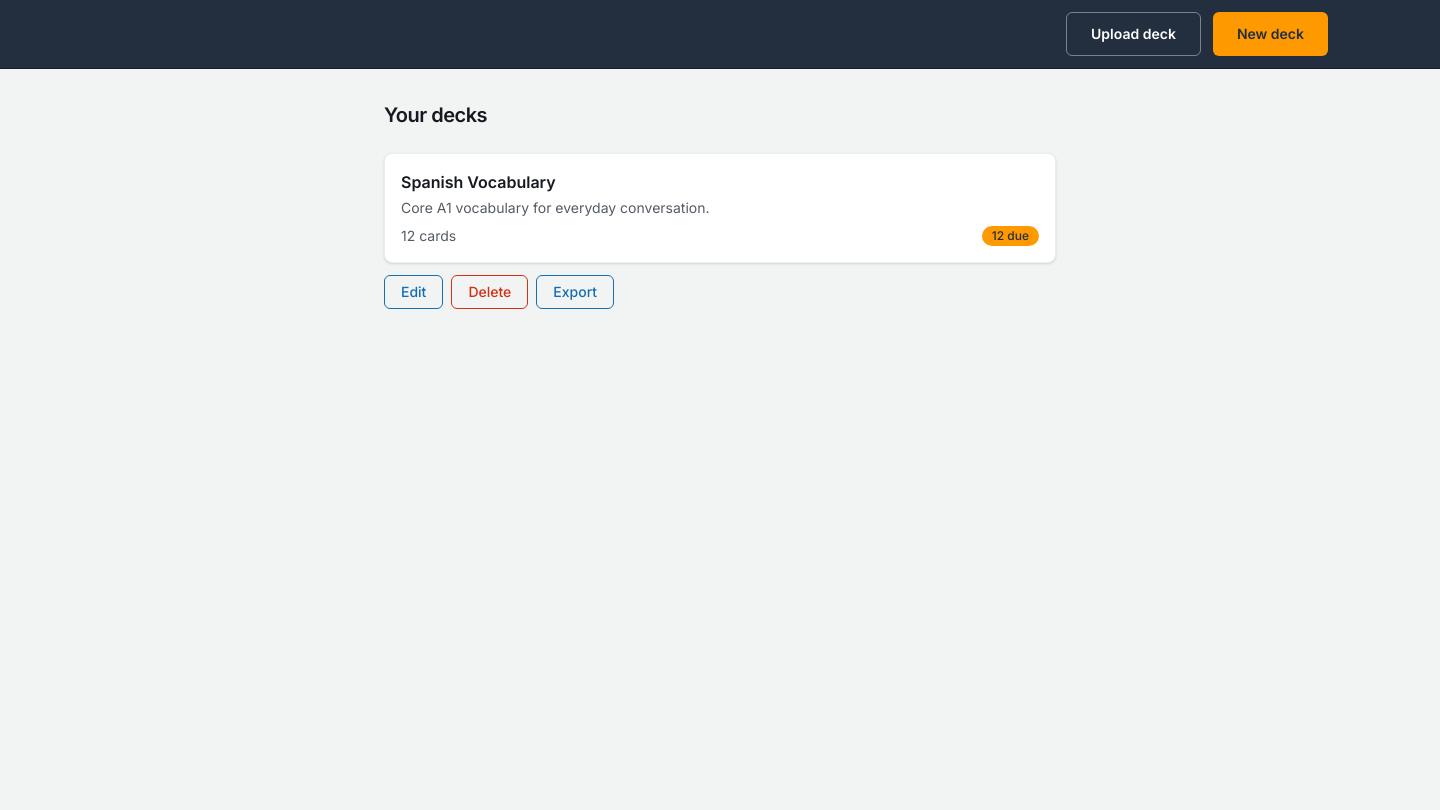
it: Dashboard wiring — create entry points open the form (1.1) › opens the DeckForm in create mode when the header 'New deck' button is clicked
Click the button "New deck" at coordinates (1270, 34), box [1213,12,1328,56]
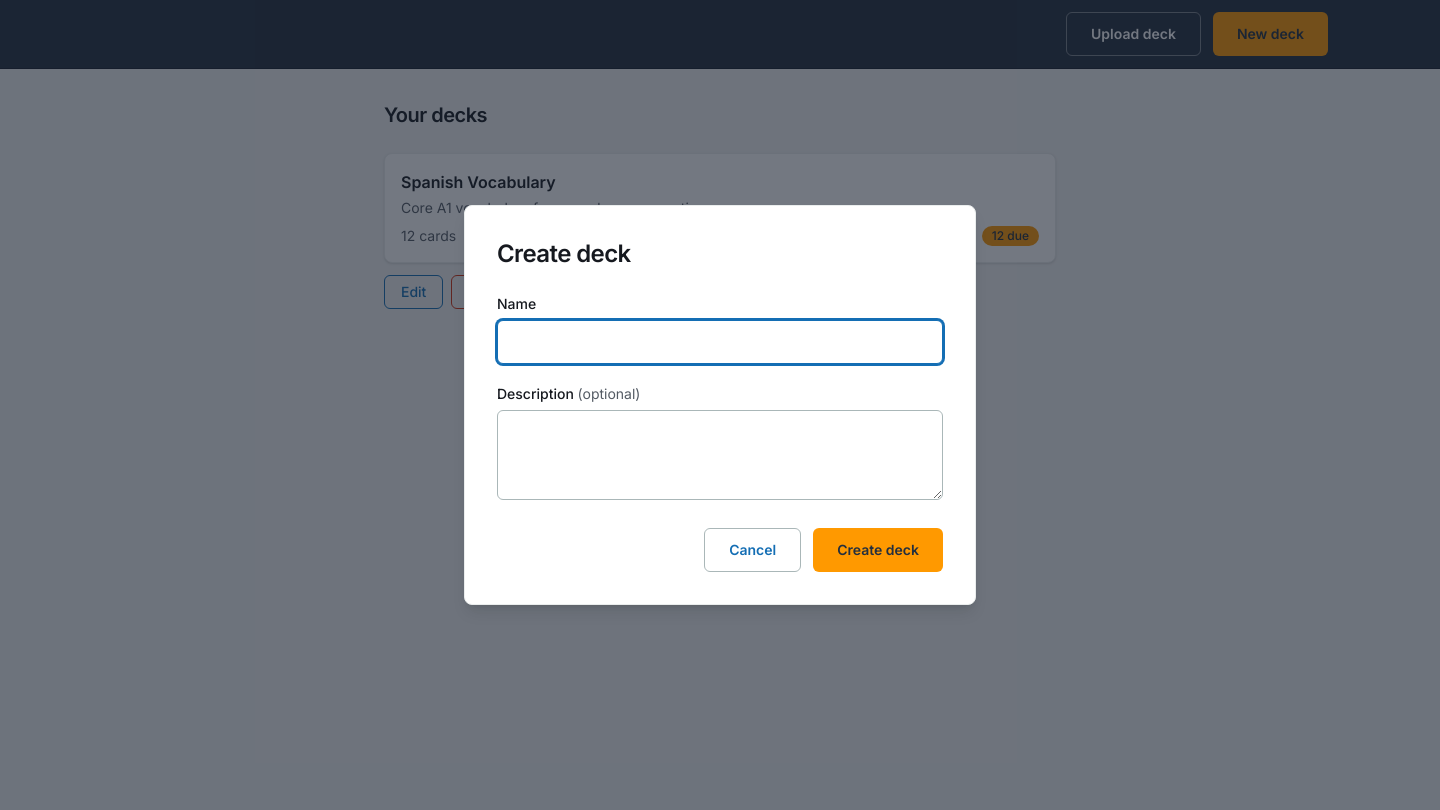
Expected: the field labelled "Name" is empty, [497,320,943,364]
Now the heading "Create deck" is shown, box [497,239,631,268]
